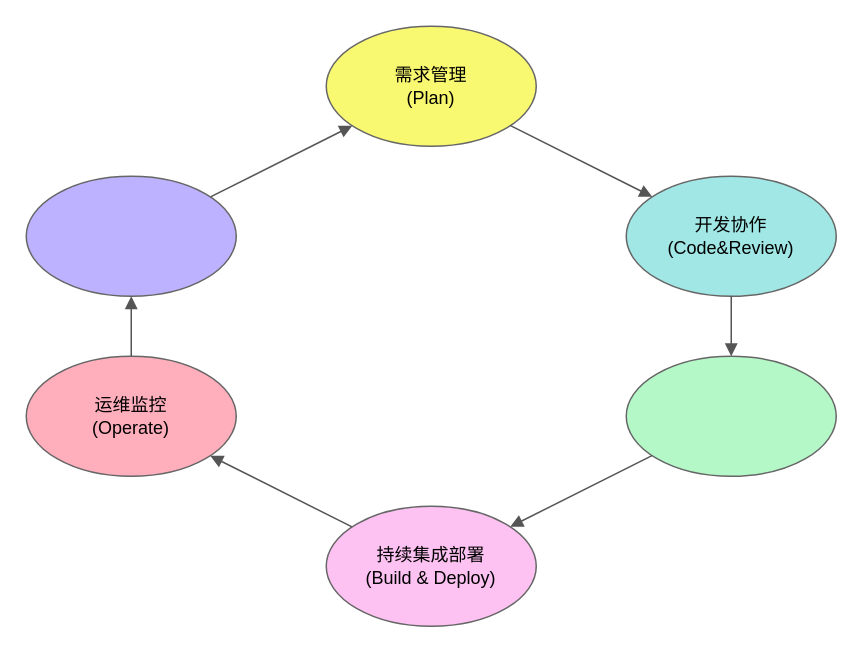
Image size: 863x653. Some labels were removed from this diagram. The shapes that lost their labels are listed below. From the top down, each one's box as (x1, y1, x2, y2) in pixels, then its label:
(25, 175, 236, 296): 反馈分析 (Feedback)
(625, 355, 836, 476): 测试协作 (Test)
